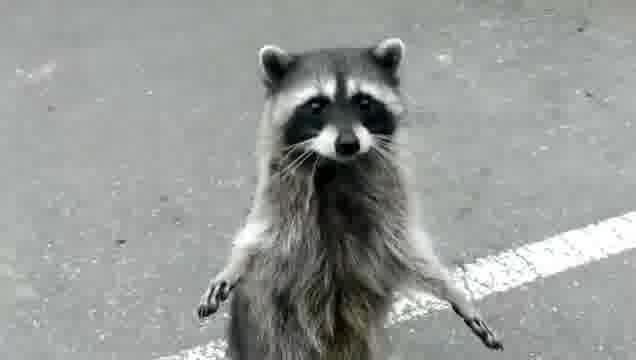raccoon: (192, 44, 504, 360)
